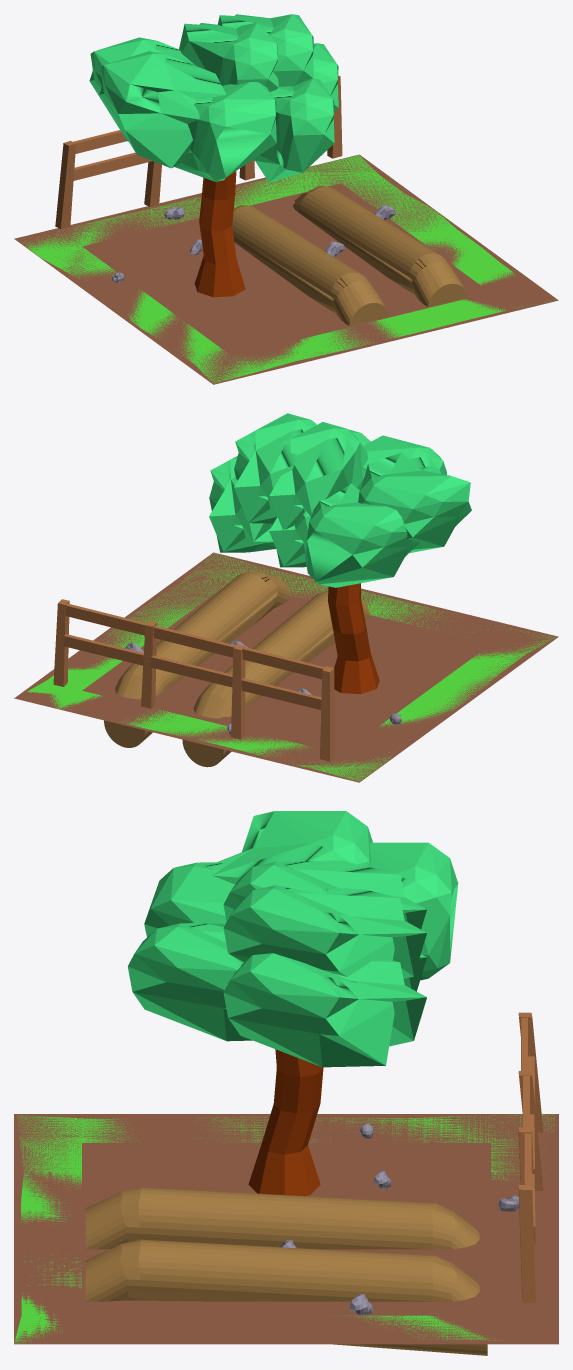
File: brownfieldflat3.fbx
3 renders of one model, top to bottom at view 1: azimuth 30°, elevation 25°; view 2: azimuth 150°, elevation 25°; view 3: azimuth 270°, elevation 25°, orthographic. The views are drawn at different scales.
Parts seen in each view (by area): view 1: Cube; view 2: Cube; view 3: Cube.
Part boxes in pixels (<box>): Cube: <box>14,14,558,384</box>; Cube: <box>14,413,558,782</box>; Cube: <box>14,811,558,1355</box>.
Bounding box in the file's own units: 1007 × 812 × 1000.
